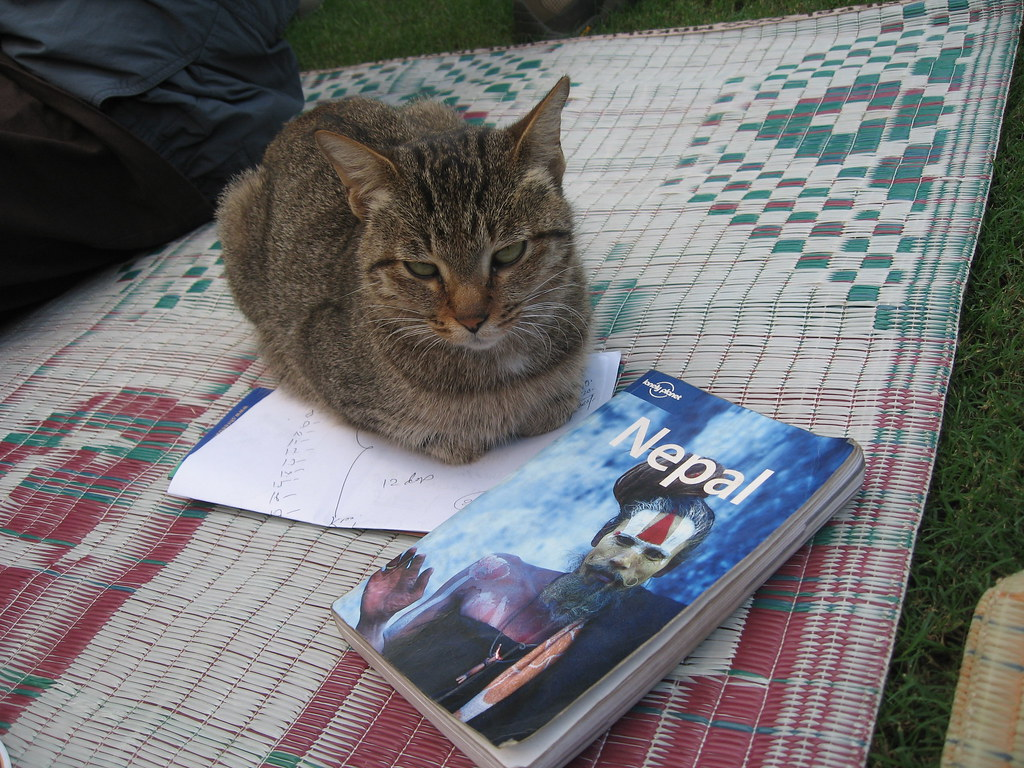cat: (193, 65, 624, 484)
